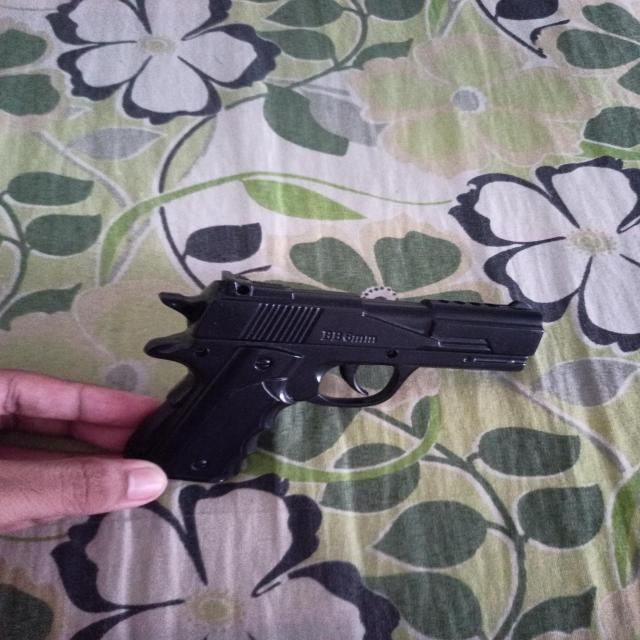handgun: (126, 273, 542, 482)
